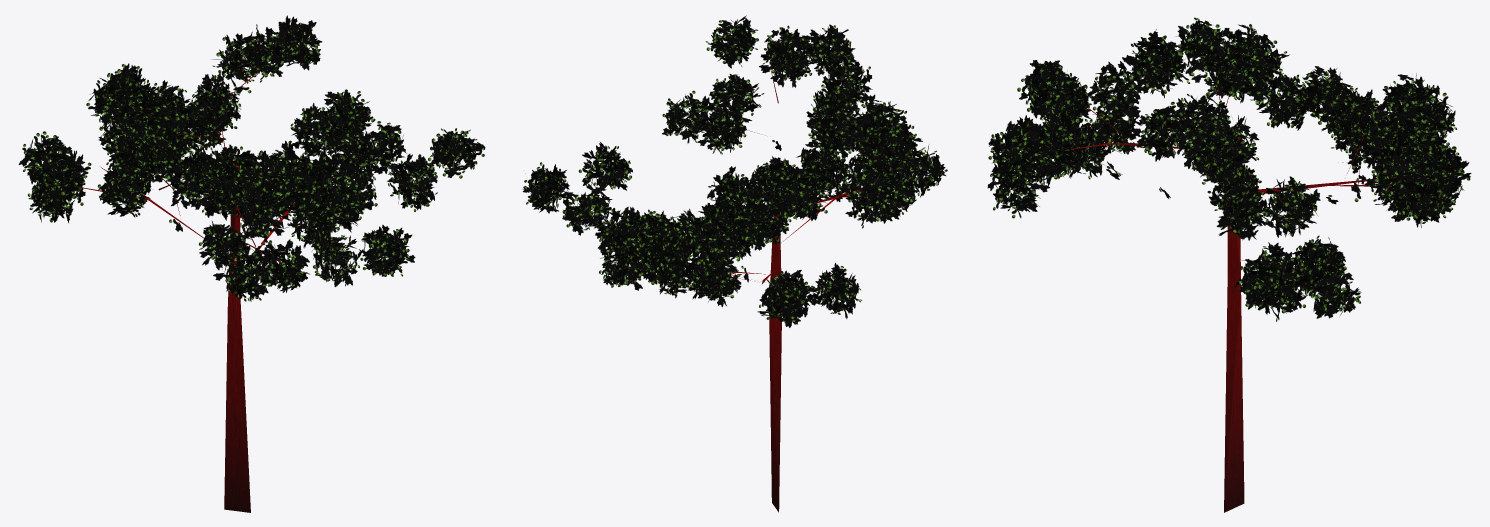
File: pine_open_v02_LOD1.glb
3 views of the same model, side by side, from view 1: azimuth 30°, elevation 25°; view 2: azimuth 150°, elevation 25°; view 3: azimuth 270°, elevation 25° (orthographic). The views are drawn at different scales.
Visible parts, largest first — view 1: pine_open_v02_LOD1; view 2: pine_open_v02_LOD1; view 3: pine_open_v02_LOD1.
Part boxes in pixels (x1,y1,x2,y2): pine_open_v02_LOD1: (18, 15, 485, 512); pine_open_v02_LOD1: (523, 15, 947, 512); pine_open_v02_LOD1: (987, 17, 1471, 512).
Size of the model in its own units: 16.52 by 21.06 by 20.22.
Materials: 2 (2 with a texture image).
